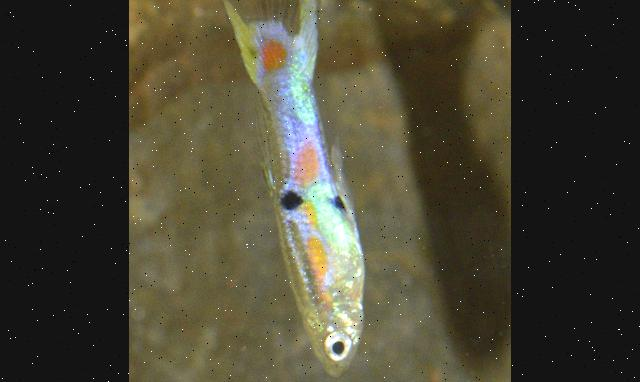Mulut: (308, 339, 367, 382)
Sirip Anal: (311, 120, 363, 213)
Sirip Ekor: (210, 0, 337, 83)
Sirip Punggung: (232, 103, 298, 239)
